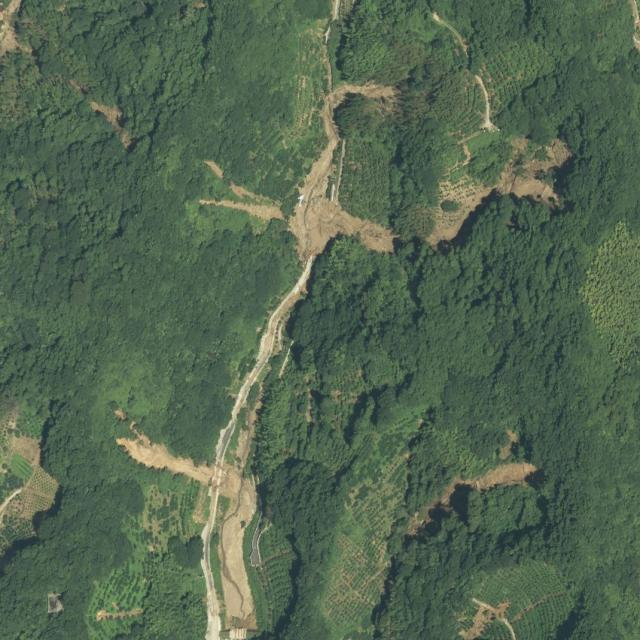landslide: (289, 82, 396, 262), (115, 428, 213, 485), (427, 189, 490, 247), (471, 463, 538, 491), (0, 0, 21, 56), (220, 465, 240, 500)
